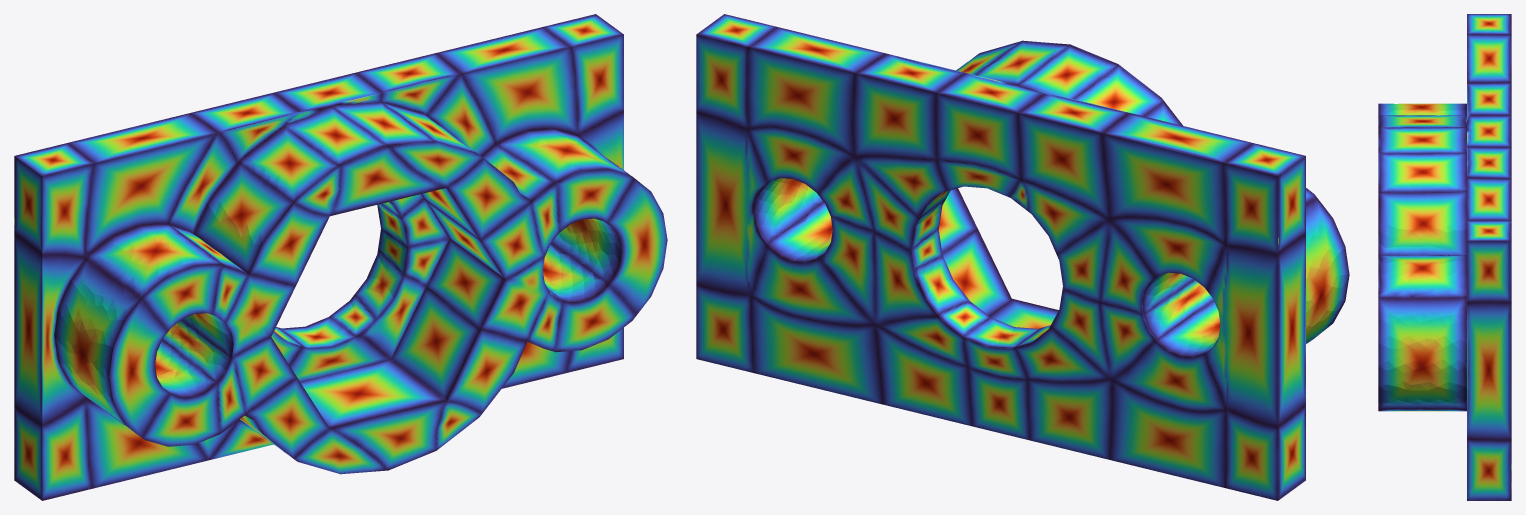
Rendered from gen0.glb.
The picture shows the model from 3 angles, left to right: view 1: azimuth 30°, elevation 25°; view 2: azimuth 150°, elevation 25°; view 3: azimuth 270°, elevation 25°; orthographic projection. The views are drawn at different scales.
Parts seen in each view (by area): view 1: Node; view 2: Node; view 3: Node.
Boxes of the visible parts, x1,y1,x2,y2 form: Node: (14,14,667,500); Node: (696,14,1349,500); Node: (1378,14,1511,500).
Size of the model in its own units: 38.1 by 20.32 by 9.45.
1 material, 1 textured.
